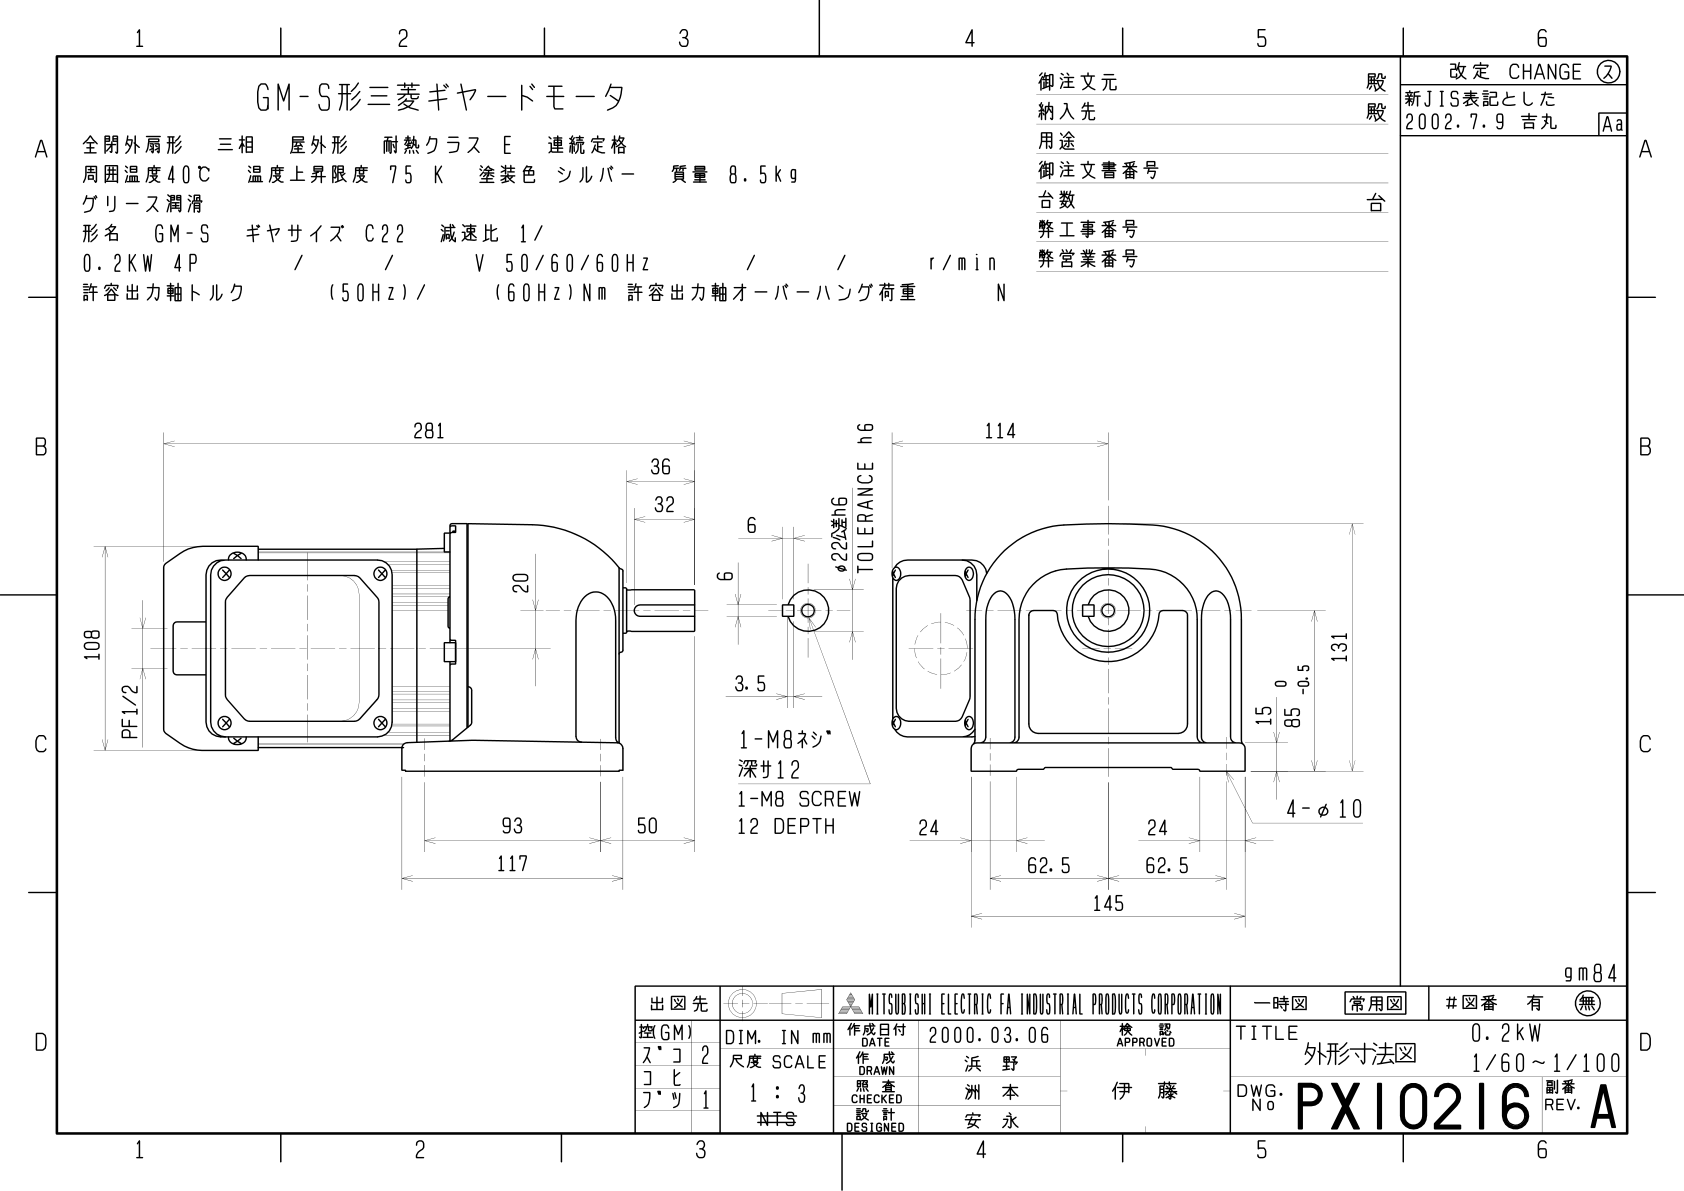GM_S_屋外＿三相_脚: (70, 396, 1377, 937)
